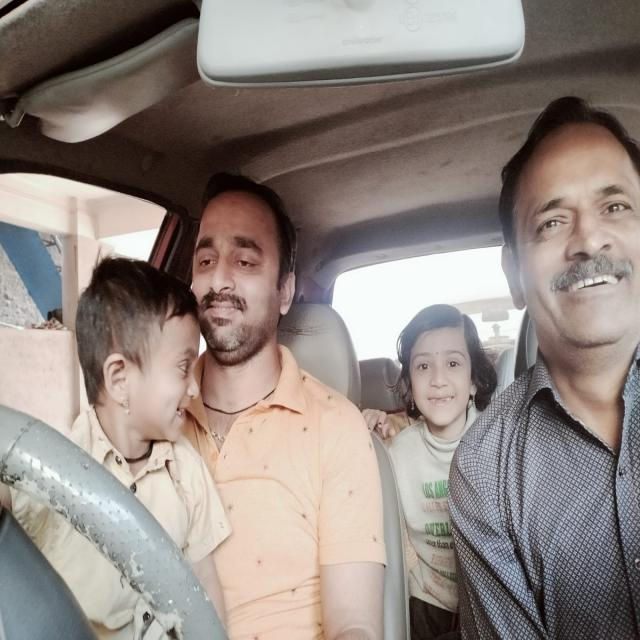child: (80, 266, 206, 438)
person: (494, 106, 640, 349), (189, 187, 298, 361), (391, 308, 488, 430)
